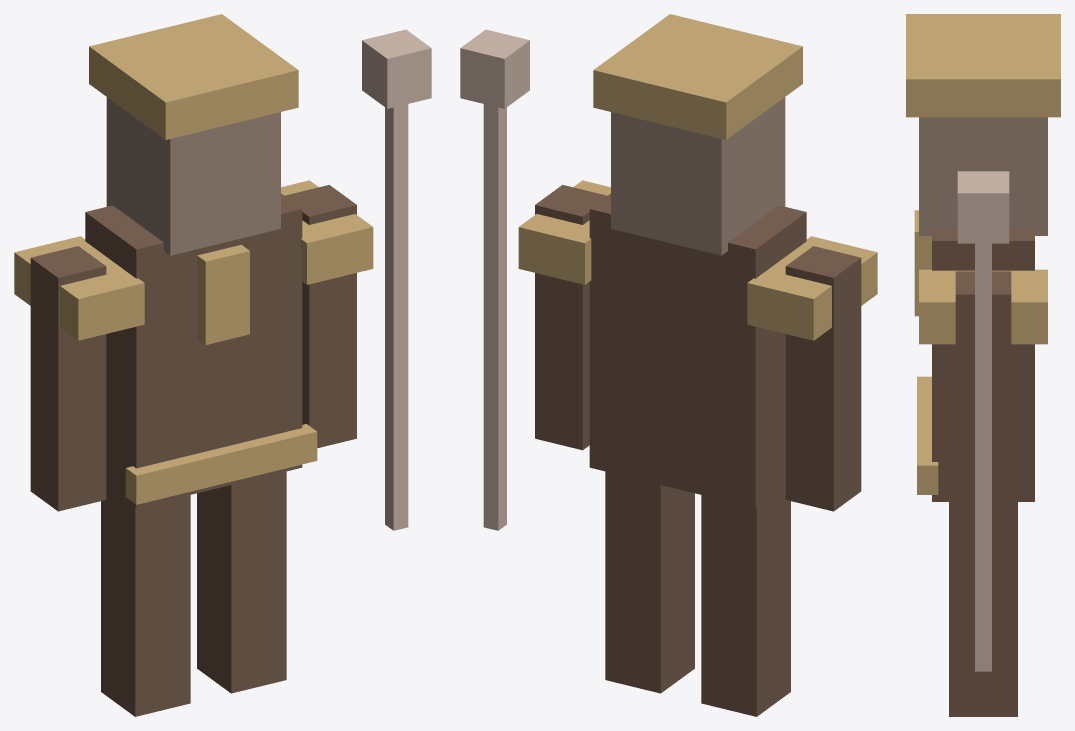
File: 13_korra_tideforged_navigator_under.glb
3 renders of one model, left to right at view 1: azimuth 30°, elevation 25°; view 2: azimuth 150°, elevation 25°; view 3: azimuth 270°, elevation 25°, orthographic.
Visible parts, largest first — view 1: Korra Tideforged, Navigator under; view 2: Korra Tideforged, Navigator under; view 3: Korra Tideforged, Navigator under.
Boxes of the visible parts, box(x1,y1,x2,y2) form: Korra Tideforged, Navigator under: box(14, 14, 431, 716); Korra Tideforged, Navigator under: box(460, 14, 877, 716); Korra Tideforged, Navigator under: box(906, 14, 1060, 716).
Bounding box in the file's own units: 1.02 × 1.63 × 0.3606.
